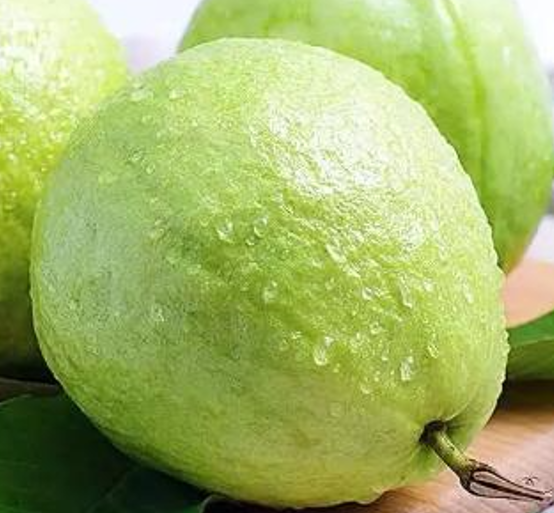guava_A: (28, 37, 508, 509)
